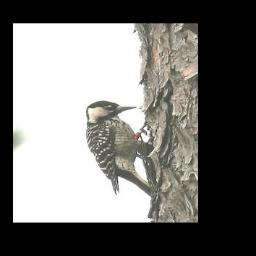Woodpecker: (85, 100, 157, 197)
